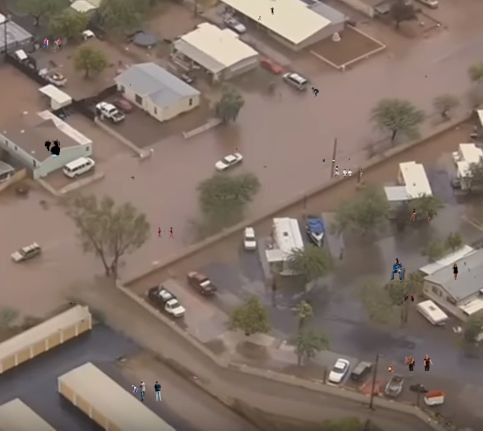Human: (139, 380, 162, 402), (409, 205, 437, 223), (404, 354, 433, 371), (334, 166, 363, 178), (38, 38, 62, 52), (452, 262, 470, 280), (390, 258, 403, 282), (44, 139, 60, 158), (158, 227, 174, 239), (322, 158, 350, 164), (398, 293, 414, 302), (311, 87, 319, 97), (131, 385, 138, 394), (388, 365, 393, 374), (69, 301, 76, 306), (270, 7, 274, 15), (258, 16, 266, 20), (192, 375, 197, 380), (428, 418, 431, 426), (130, 176, 135, 180), (236, 148, 244, 150), (422, 262, 425, 267), (263, 165, 267, 168), (425, 75, 427, 79), (130, 84, 131, 88)
